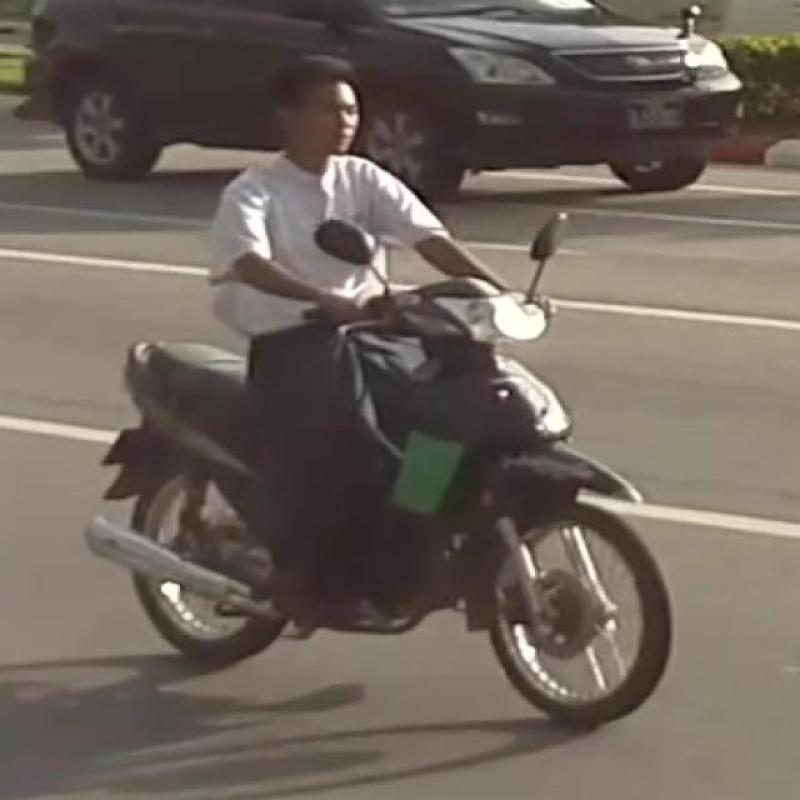nohelmet: (254, 62, 378, 156)
